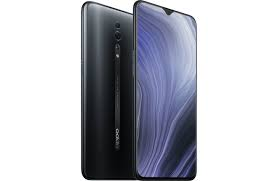oppo: (82, 1, 201, 181)
